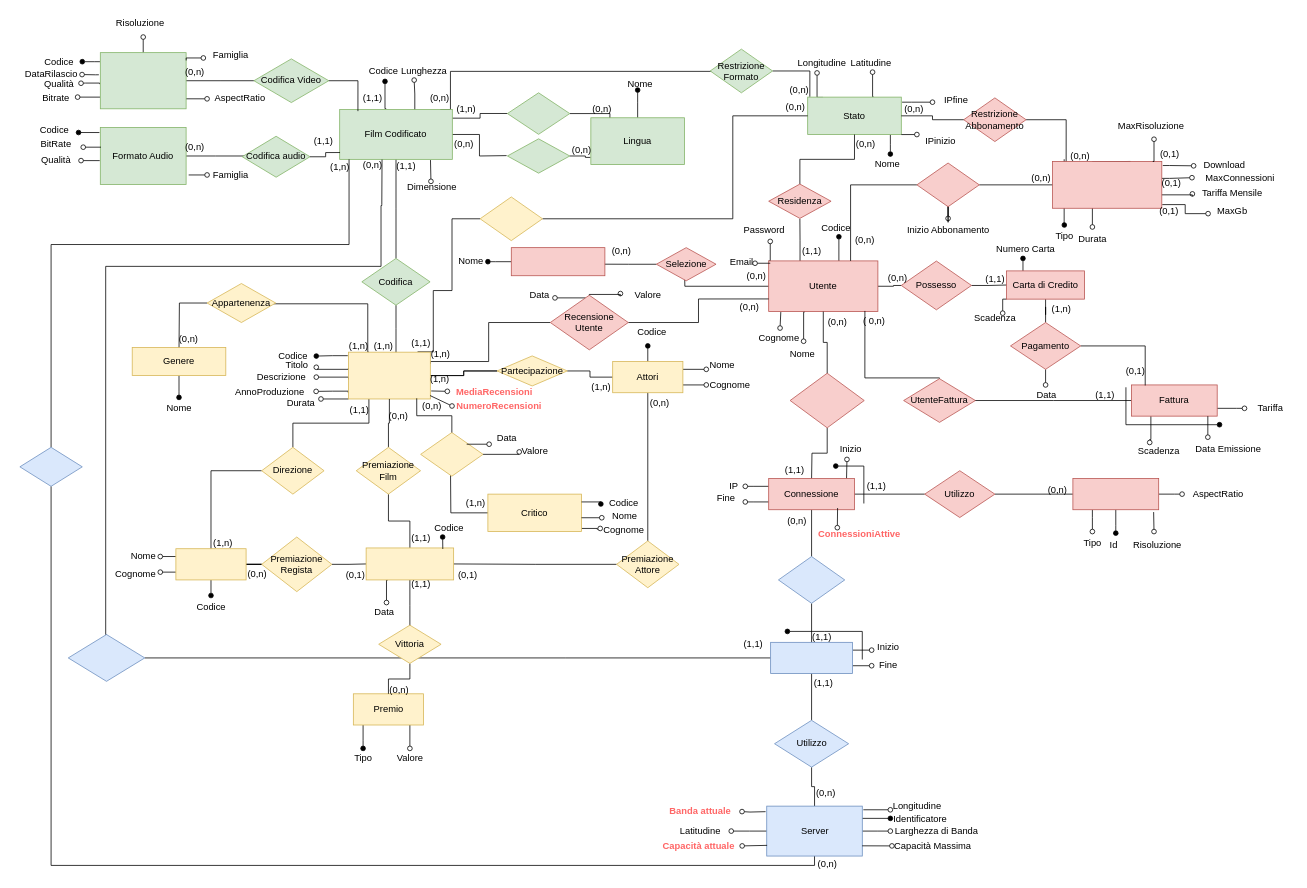
Some shapes in this 1307 by 888 pixel diagram are drawn without their labels. Each missing label, with the centre of its shape:
"Abbonamento" belongs at pixel 1107 184.
"Accesso" belongs at pixel 106 657.
"Acquisto" belongs at pixel 947 184.
"Audio" belongs at pixel 538 113.
"Dispositivo" belongs at pixel 1115 494.
"Film" belongs at pixel 389 375.
"Formato Video" belongs at pixel 143 80.
"Inizializzazione" belongs at pixel 826 400.
"Possesso Server" belongs at pixel 50 466.
"Preferenza" belongs at pixel 558 261.
"Produzione" belongs at pixel 510 218.
"Recensione" belongs at pixel 451 454.
"Regista" belongs at pixel 210 564.
"Richiesta" belongs at pixel 811 579.
"Sottotitolo" belongs at pixel 538 155.
"Vincita" belongs at pixel 409 563.
"Visualizzazione" belongs at pixel 811 658.
